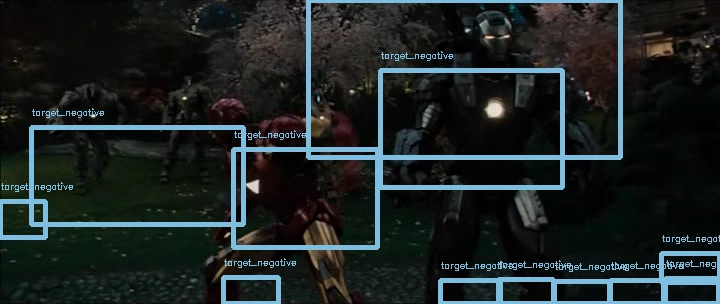person: (204, 94, 249, 147), (203, 94, 248, 147), (205, 94, 250, 147), (204, 93, 249, 146), (204, 95, 249, 148)
target_negative: (114, 41, 634, 277), (16, 36, 601, 224), (515, 141, 577, 287), (491, 216, 620, 243), (435, 242, 573, 264), (357, 192, 402, 220)
